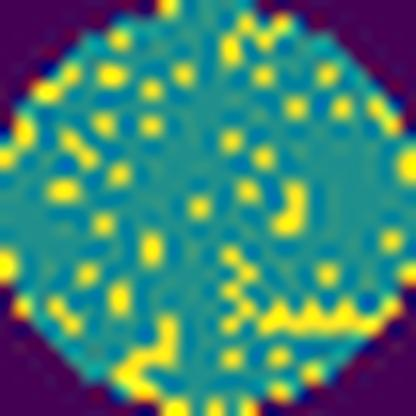Scratch: (222, 244, 403, 343)
